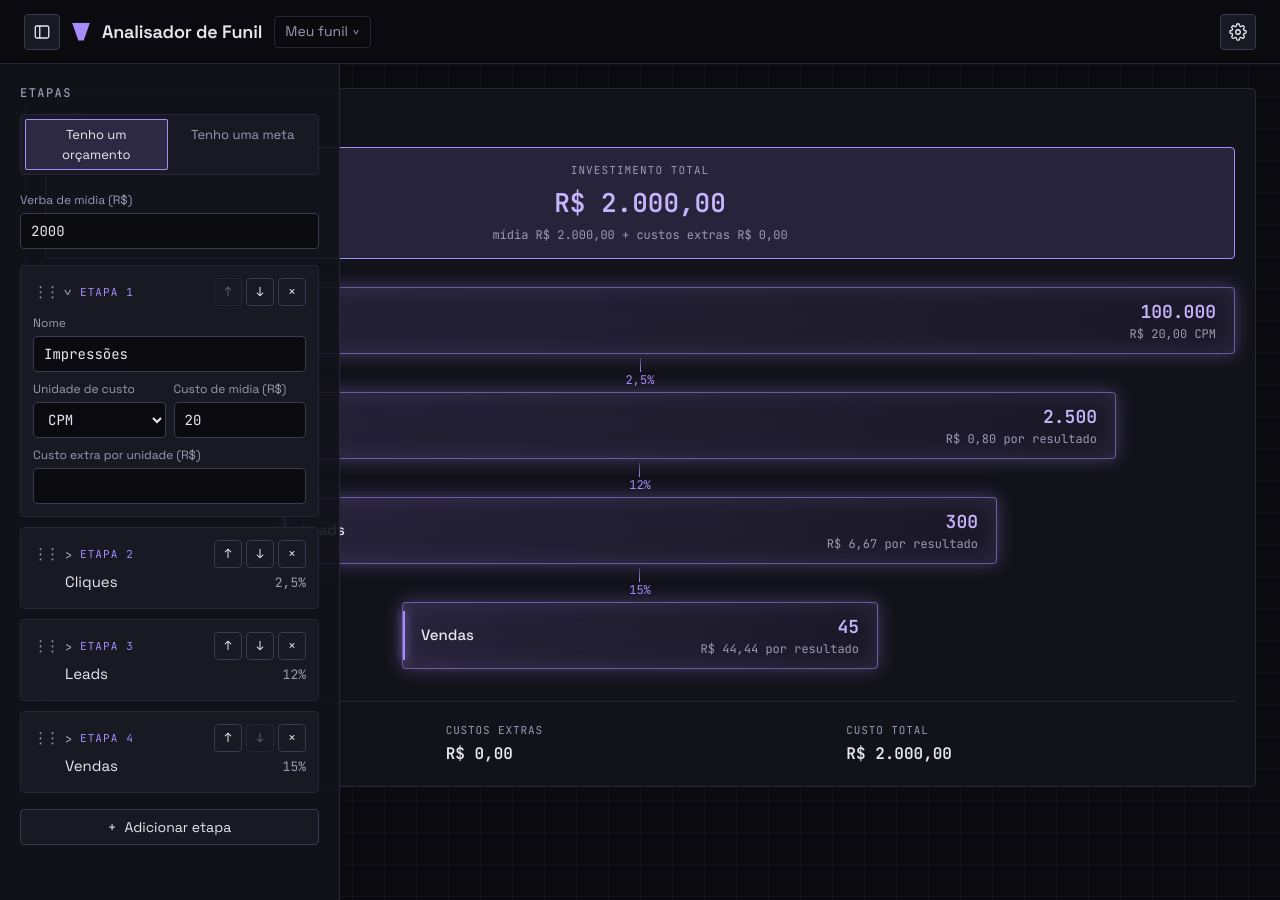
Test: modal de configurações › com o ponto escolhido, o ponto vem marcado ao abrir de novo
Click the button named "Configurações" at (1238, 32), box [1220,14,1256,50]
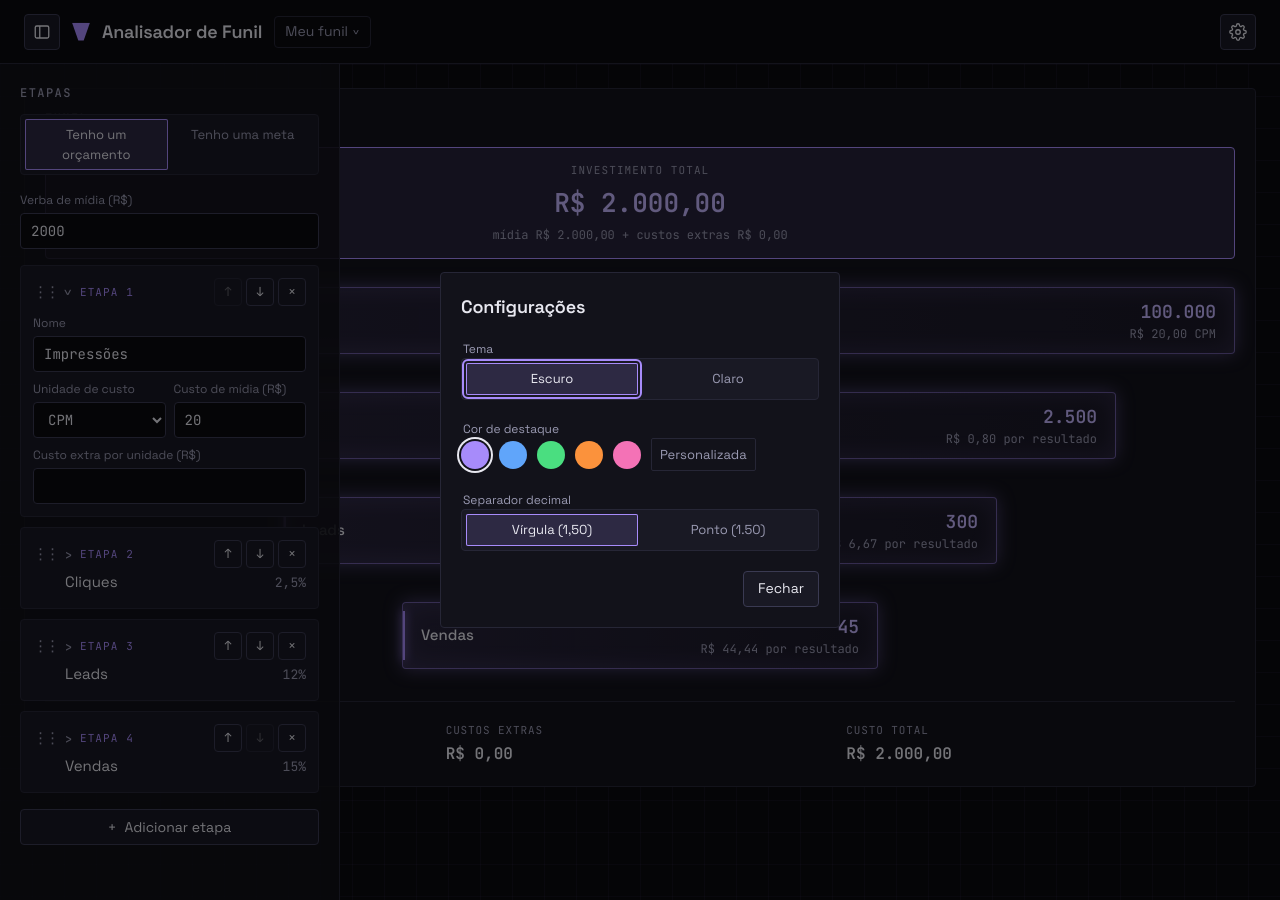
Click the 6th radio button labelled "Ponto (1.50)" at (728, 530), box [691,521,765,538]
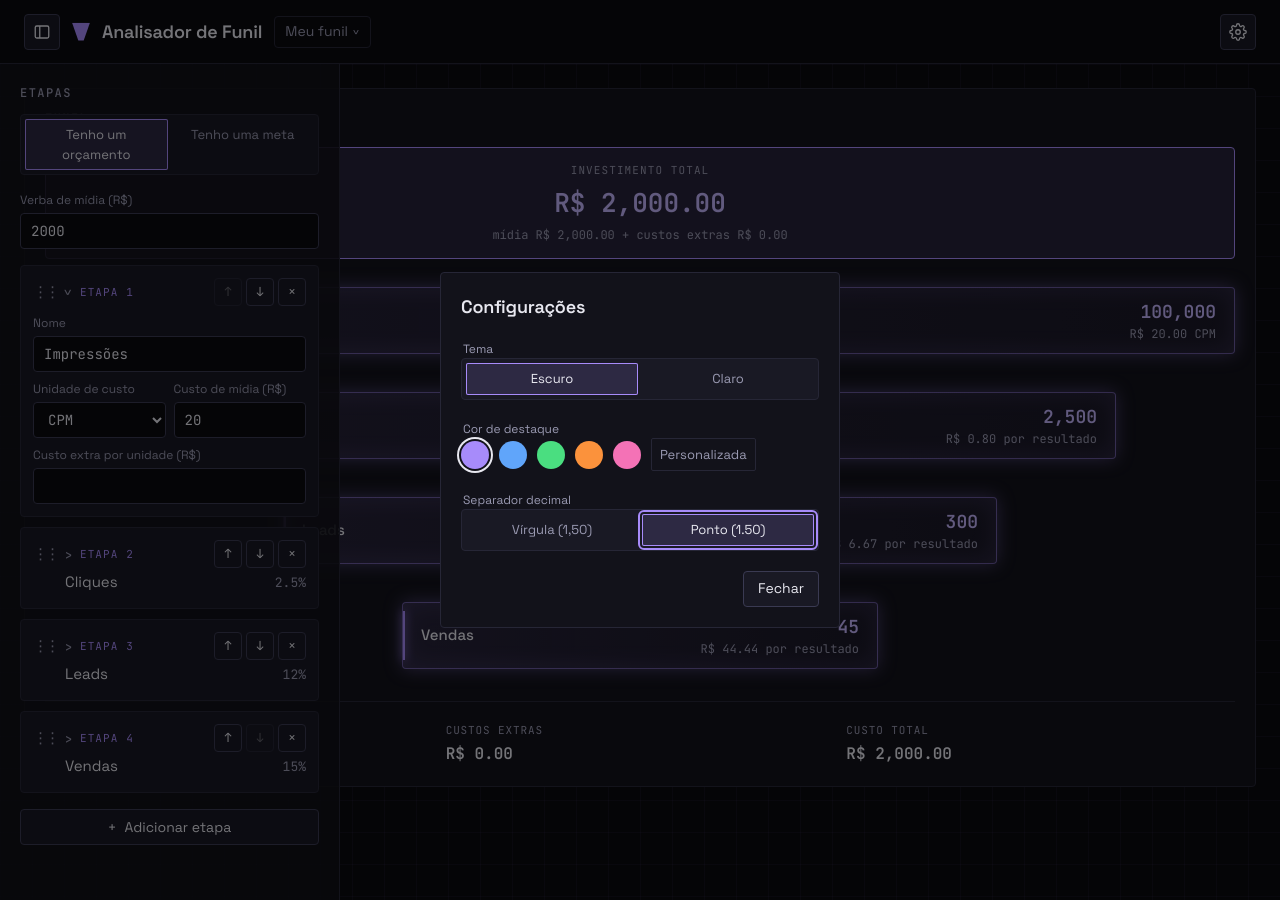
Click the button "Fechar" at (781, 589), box [743,571,819,607]
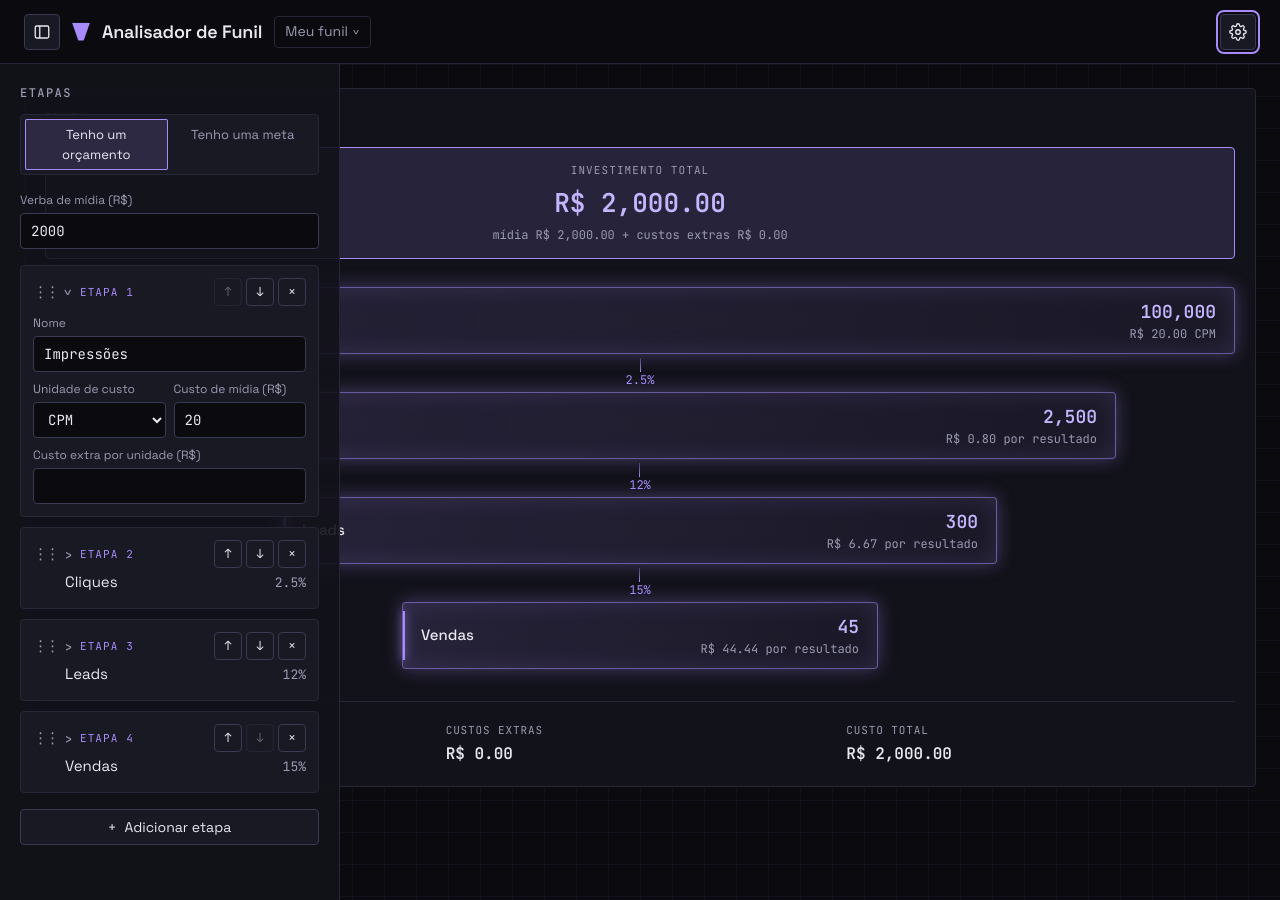
Click the button named "Configurações" at (1238, 32), box [1220,14,1256,50]
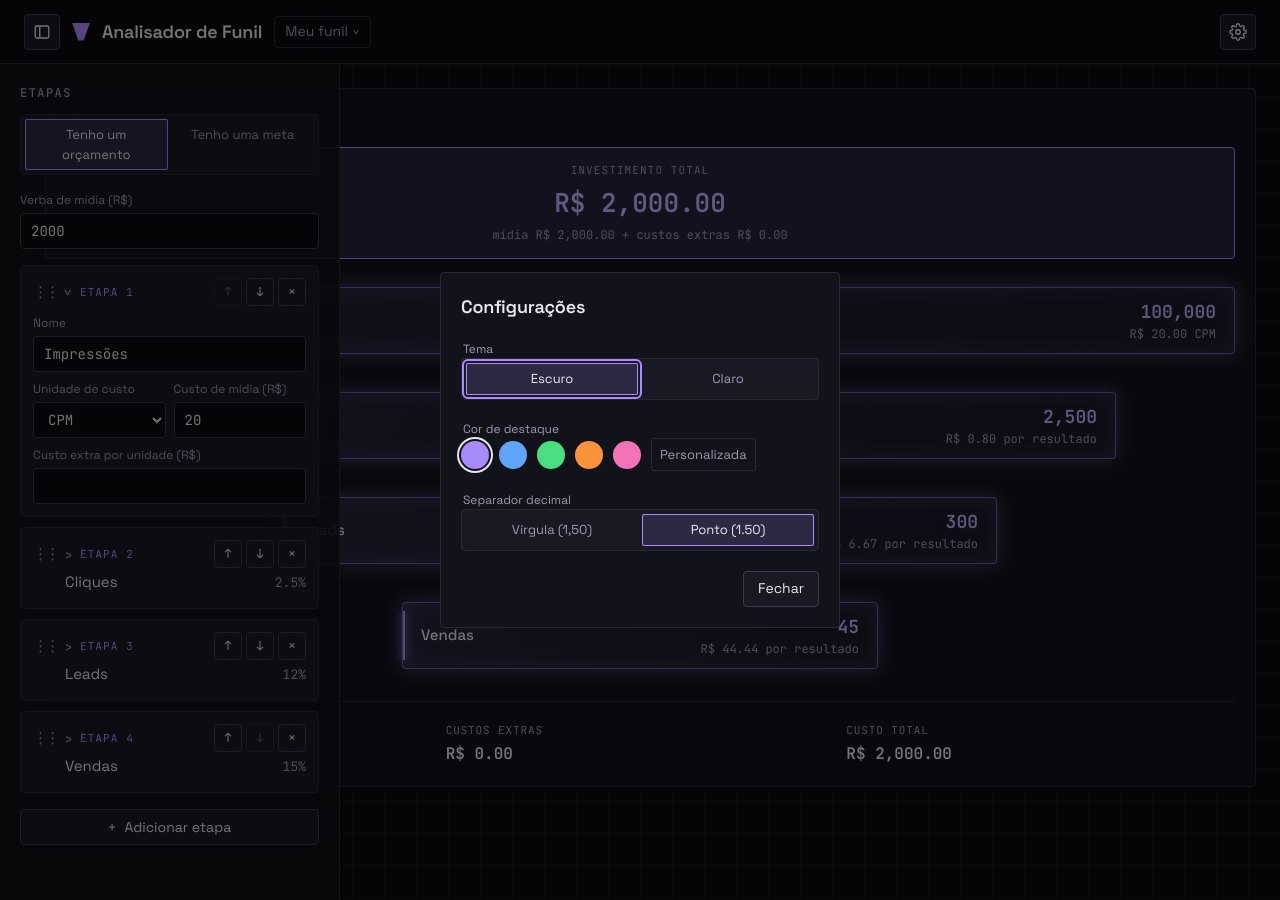
Now the 6th radio button labelled "Ponto (1.50)" is checked, box [642,514,814,546]
